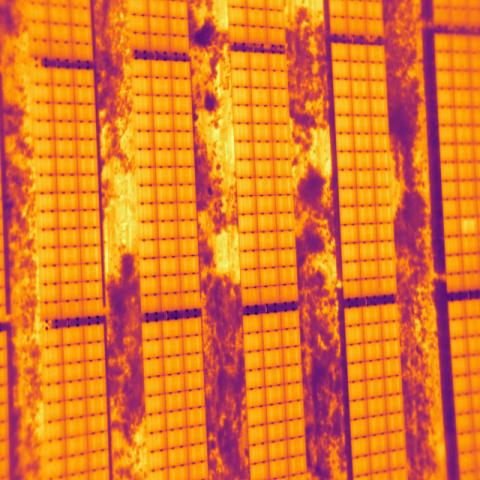fault: (462, 216, 477, 234)
